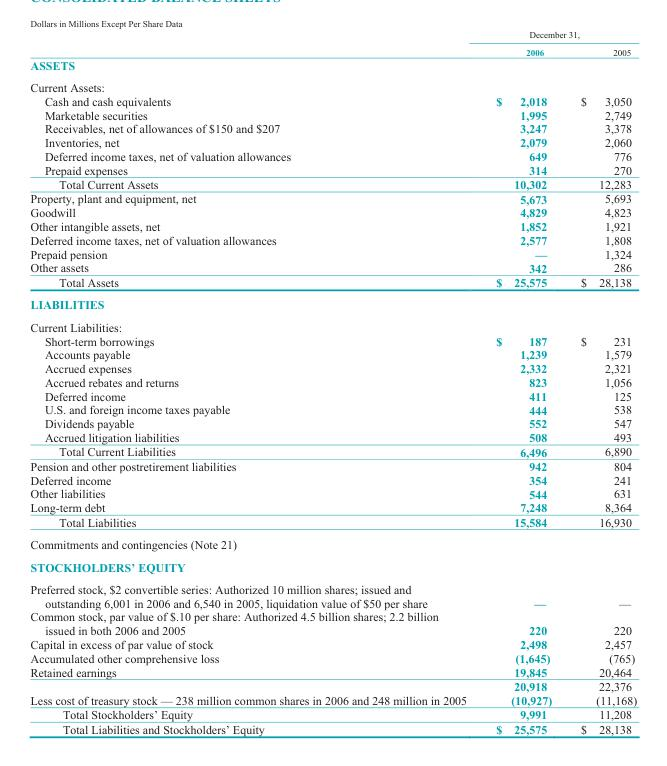table: (29, 28, 636, 735)
table column: (29, 28, 480, 735), (480, 28, 565, 735), (565, 28, 636, 735)
table column header: (29, 28, 636, 57)
table projected row header: (29, 532, 636, 555), (29, 293, 636, 315), (29, 555, 636, 577), (29, 57, 636, 75), (29, 75, 636, 93), (29, 315, 636, 333)
table row: (29, 577, 636, 609), (29, 609, 636, 637), (29, 532, 636, 555), (29, 293, 636, 315), (29, 555, 636, 577), (29, 274, 636, 293), (29, 57, 636, 75), (29, 75, 636, 93), (29, 315, 636, 333), (29, 514, 636, 532), (29, 42, 636, 57), (29, 176, 636, 191), (29, 692, 636, 707), (29, 28, 636, 42), (29, 93, 636, 107), (29, 107, 636, 121), (29, 121, 636, 135), (29, 135, 636, 149), (29, 162, 636, 176), (29, 191, 636, 205), (29, 205, 636, 219), (29, 232, 636, 246), (29, 246, 636, 260), (29, 260, 636, 274), (29, 333, 636, 347), (29, 347, 636, 361), (29, 361, 636, 375), (29, 388, 636, 402), (29, 402, 636, 416), (29, 416, 636, 430), (29, 430, 636, 444), (29, 444, 636, 458), (29, 458, 636, 472), (29, 472, 636, 486), (29, 486, 636, 500), (29, 500, 636, 514), (29, 650, 636, 664), (29, 664, 636, 678), (29, 678, 636, 692), (29, 707, 636, 721), (29, 721, 636, 735), (29, 149, 636, 162), (29, 219, 636, 232), (29, 375, 636, 388), (29, 637, 636, 650)
table spanning cell: (480, 28, 636, 42)
